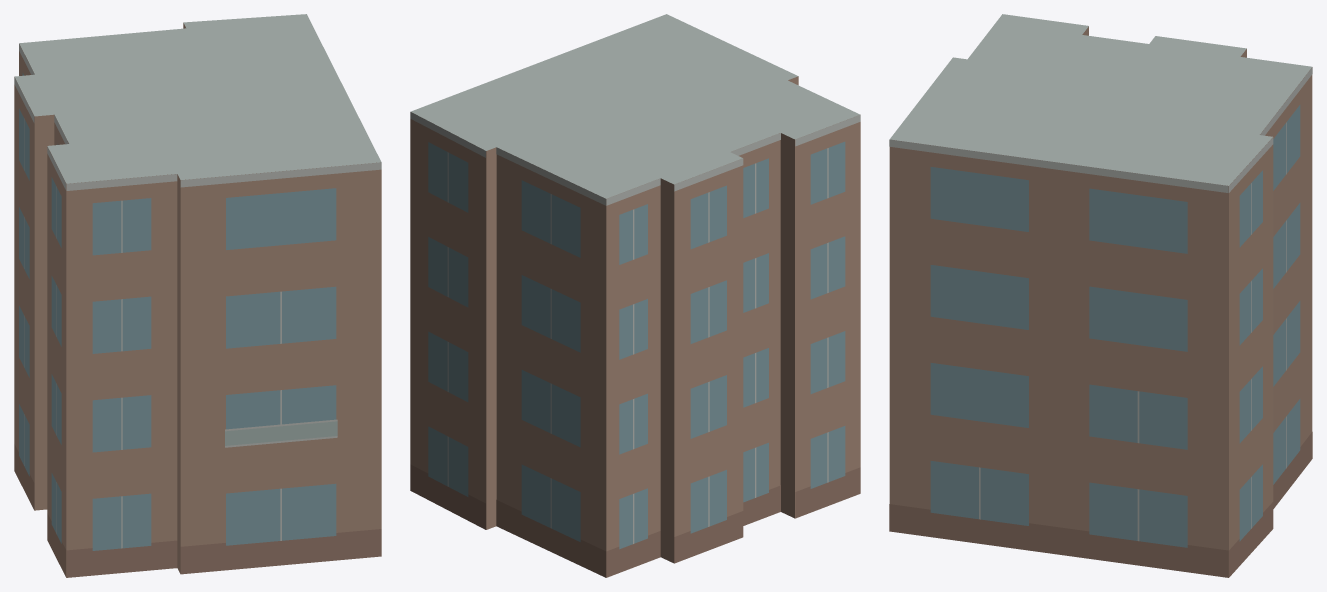
Rendered from survey-upis-32874824.glb.
The picture shows the model from 3 angles, left to right: view 1: azimuth 30°, elevation 25°; view 2: azimuth 150°, elevation 25°; view 3: azimuth 270°, elevation 25°; orthographic projection. The views are drawn at different scales.
Parts seen in each view (by area): view 1: survey-upis-32874824.tmp; view 2: survey-upis-32874824.tmp; view 3: survey-upis-32874824.tmp.
Boxes of the visible parts, x1=… form: survey-upis-32874824.tmp: x1=14, y1=14, x2=381, y2=577; survey-upis-32874824.tmp: x1=410, y1=14, x2=860, y2=577; survey-upis-32874824.tmp: x1=889, y1=14, x2=1312, y2=577.
Bounding box in the file's own units: 12.33 × 13.1 × 12.82.
